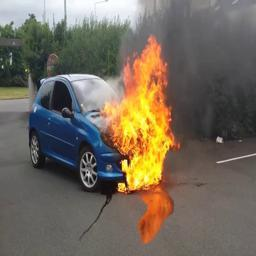fire: (102, 35, 182, 192)
